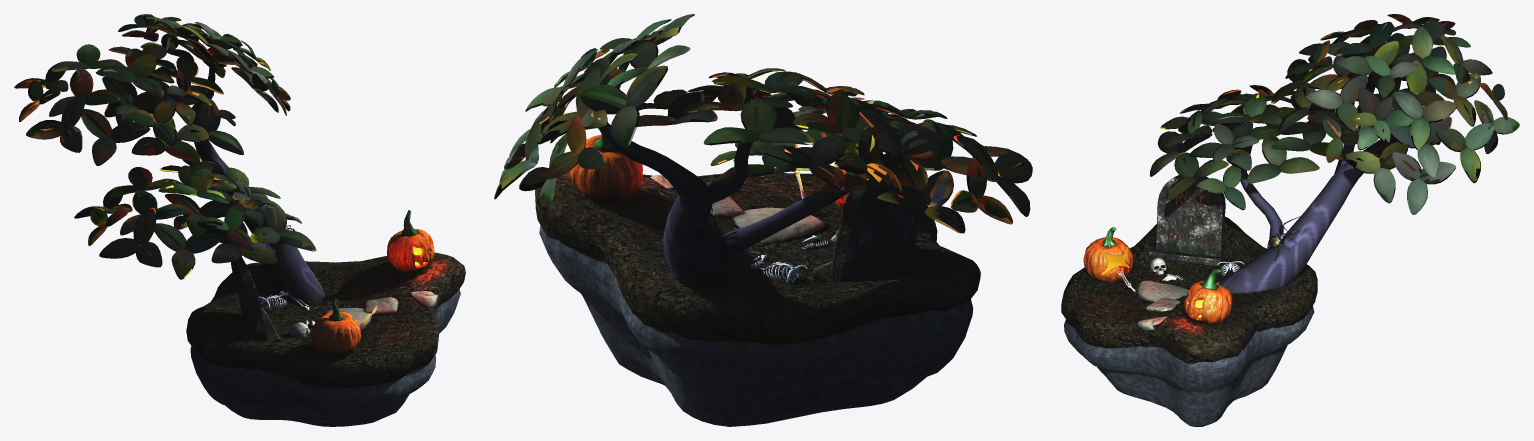
Rendered from Small_Island-transformed.glb.
3 views of the same model, side by side, from view 1: azimuth 30°, elevation 25°; view 2: azimuth 150°, elevation 25°; view 3: azimuth 270°, elevation 25° (orthographic). The views are drawn at different scales.
Visible parts, largest first — view 1: Small_Island_Baked; view 2: Small_Island_Baked; view 3: Small_Island_Baked.
Part boxes in pixels (box(x1,y1,x2,y2)): Small_Island_Baked: box(14, 14, 465, 426); Small_Island_Baked: box(494, 14, 1032, 426); Small_Island_Baked: box(1061, 14, 1519, 426).
Size of the model in its own units: 5.81 by 5.24 by 6.65.
2 materials, 1 textured.
